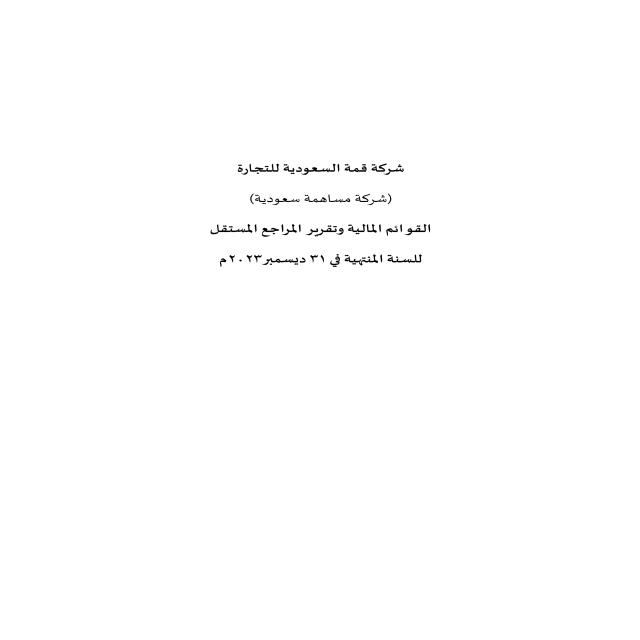other: (147, 138, 468, 334)
